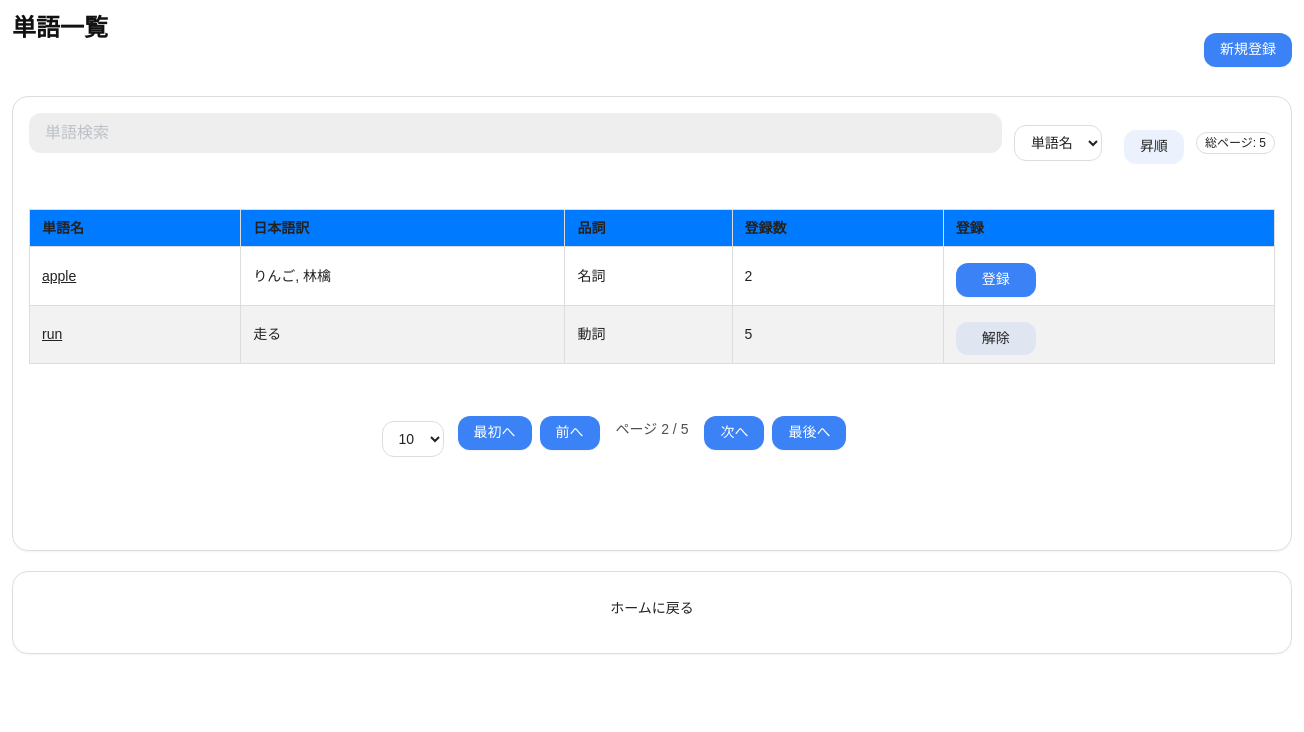
WordList › (3) 検索で再取得される（ページは維持）
Expected: the heading "単語一覧" is shown, [12,12,108,44]
Type "ap" into the field with placeholder "単語検索".
click(515, 133); type("ap")  # box [29,113,1002,153]
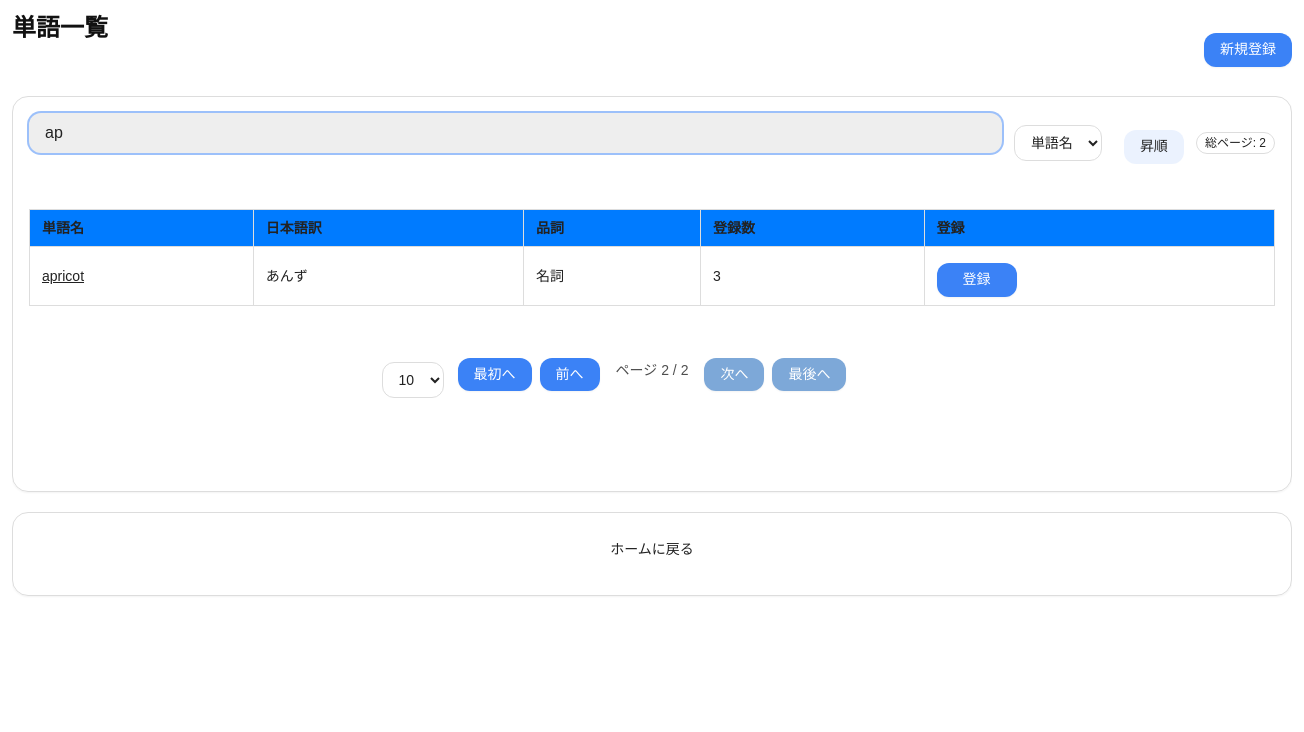
Expected: the link "apricot" is shown, [42,268,84,284]
